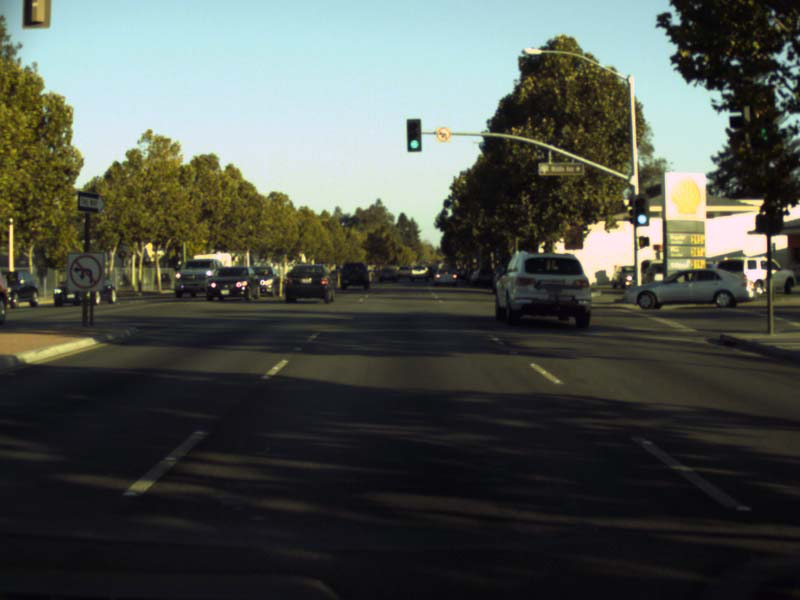Green: (635, 193, 648, 225), (407, 120, 420, 150)
